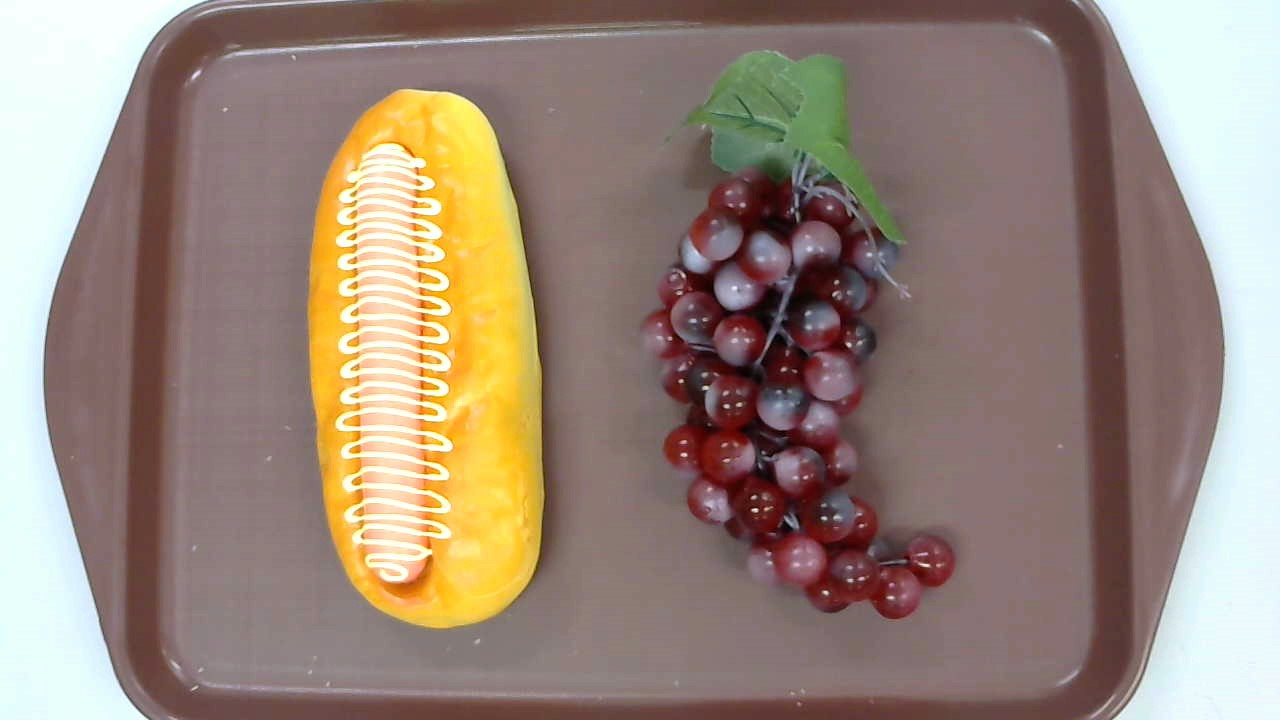grape: (638, 50, 954, 619)
hot dog: (305, 89, 547, 630)
